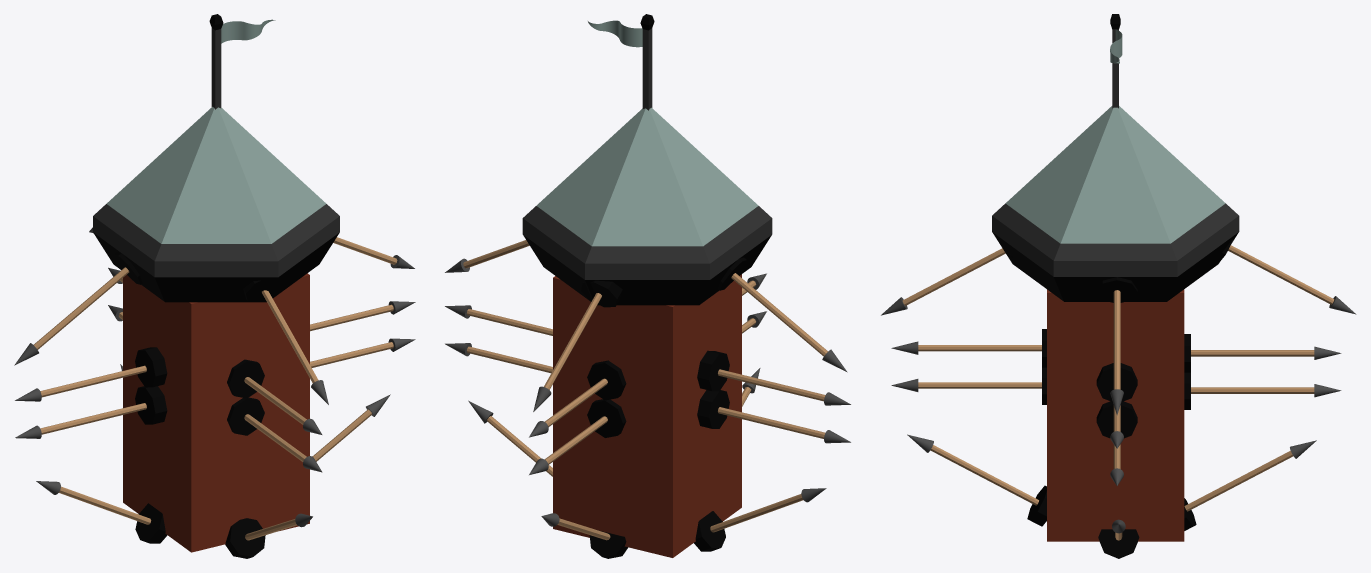
File: SpearTower.fbx
The picture shows the model from 3 angles, left to right: view 1: azimuth 30°, elevation 25°; view 2: azimuth 150°, elevation 25°; view 3: azimuth 270°, elevation 25°; orthographic projection.
Visible parts, largest first — view 1: mergedBlocks; view 2: mergedBlocks; view 3: mergedBlocks.
Part boxes in pixels (x1,y1,x2,y2): mergedBlocks: [14, 14, 415, 558]; mergedBlocks: [445, 14, 850, 558]; mergedBlocks: [881, 14, 1356, 558].
Size of the model in its own units: 16.93 by 20.65 by 17.35.
